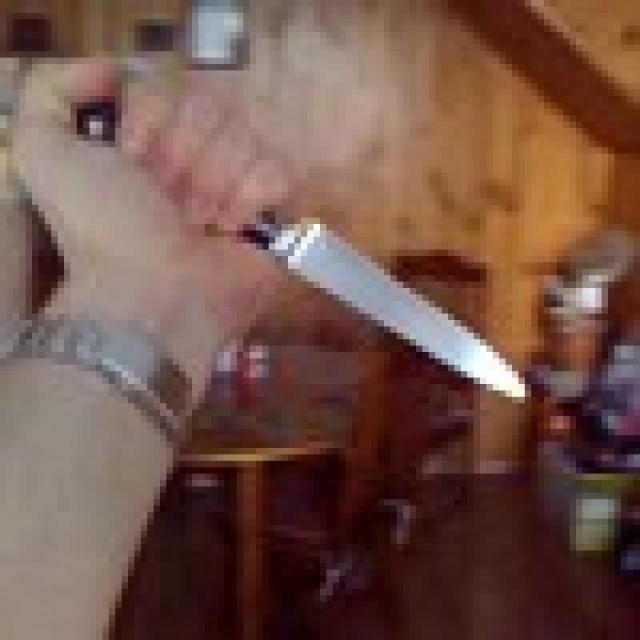Knife: (83, 102, 525, 397)
